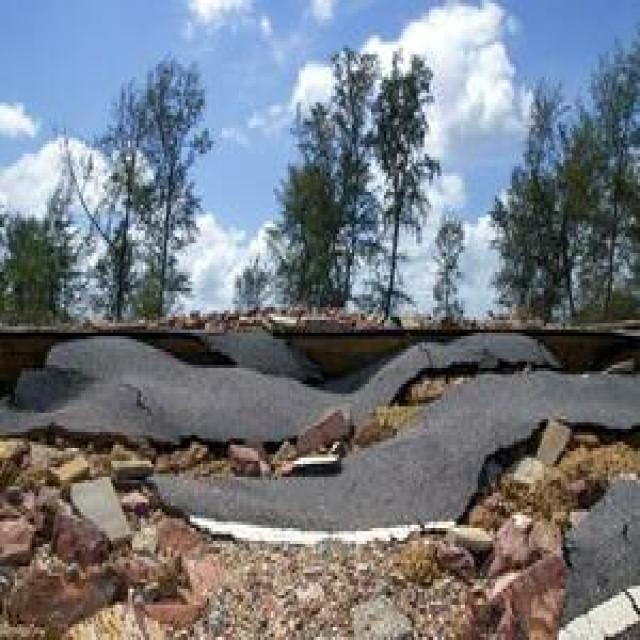road collapse: (10, 47, 640, 640)
